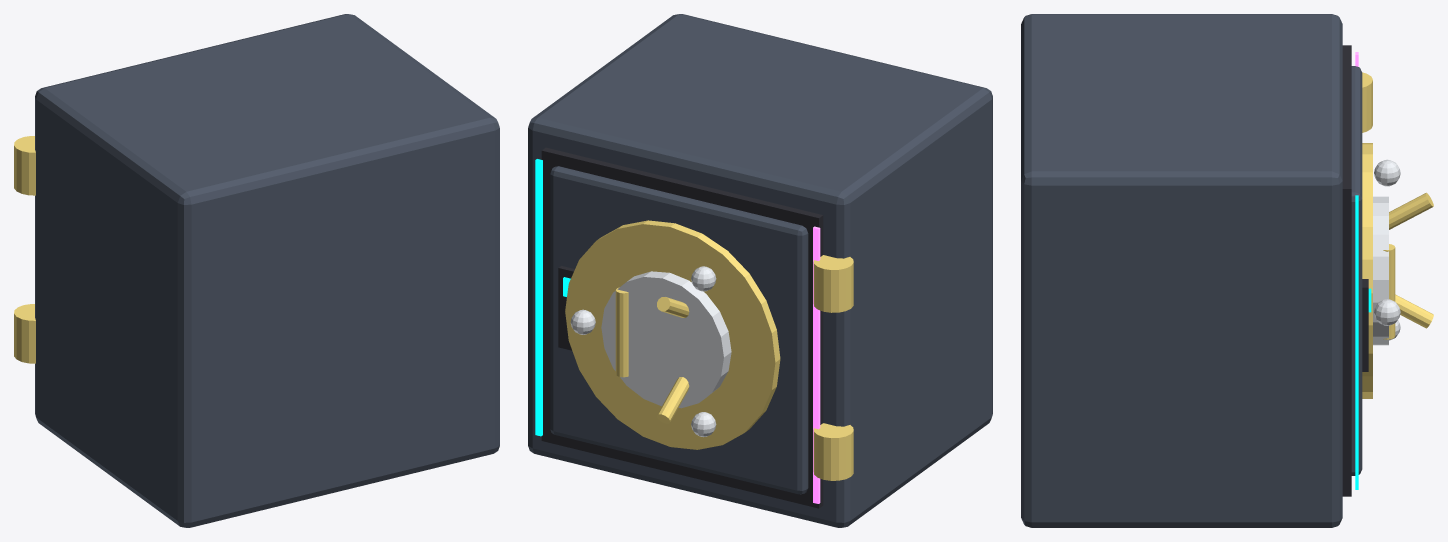
The model's file is vault_safe.glb.
3 views of the same model, side by side, from view 1: azimuth 30°, elevation 25°; view 2: azimuth 150°, elevation 25°; view 3: azimuth 270°, elevation 25° (orthographic). The views are drawn at different scales.
Visible parts, largest first — view 1: VaultChassis, Hinge_0.55, Hinge_1.65; view 2: VaultChassis, VaultDoor, DialBackplate, DialHub, DoorFrame, NeonStrip_0.95, Hinge_0.55, Hinge_1.65, NeonStrip_-0.95, WheelSpoke_0, DigitalKeypad, WheelSpoke_2; view 3: VaultChassis, DoorFrame, VaultDoor, DialBackplate, DialHub, NeonStrip_0.95, WheelSpoke_1, DigitalKeypad, WheelSpoke_2, Hinge_1.65, WheelKnob_1, WheelKnob_0 (+1 smaller).
Boxes of the visible parts, x1,y1,x2,y2 form: VaultChassis: (35,14,499,527); Hinge_0.55: (14,304,35,363); Hinge_1.65: (14,136,35,195); VaultChassis: (528,14,992,527); VaultDoor: (550,166,808,494); DialBackplate: (565,220,780,449); DialHub: (601,271,731,408); DoorFrame: (541,147,823,508); NeonStrip_0.95: (535,159,542,436); Hinge_0.55: (813,423,853,480); Hinge_1.65: (813,255,853,312); NeonStrip_-0.95: (813,226,820,503); WheelSpoke_0: (615,287,628,377); DigitalKeypad: (558,266,574,350); WheelSpoke_2: (657,377,689,423); VaultChassis: (1021,14,1342,527); DoorFrame: (1342,45,1351,496); VaultDoor: (1351,66,1362,475); DialBackplate: (1362,143,1372,398); DialHub: (1373,196,1388,345); NeonStrip_0.95: (1355,195,1358,489); WheelSpoke_1: (1389,192,1433,229); DigitalKeypad: (1362,279,1368,371); WheelSpoke_2: (1395,294,1433,328); Hinge_1.65: (1362,72,1372,132); WheelKnob_1: (1374,159,1400,186); WheelKnob_0: (1374,299,1400,325).
Size of the model in its own units: 2.27 by 2.2 by 2.31.
